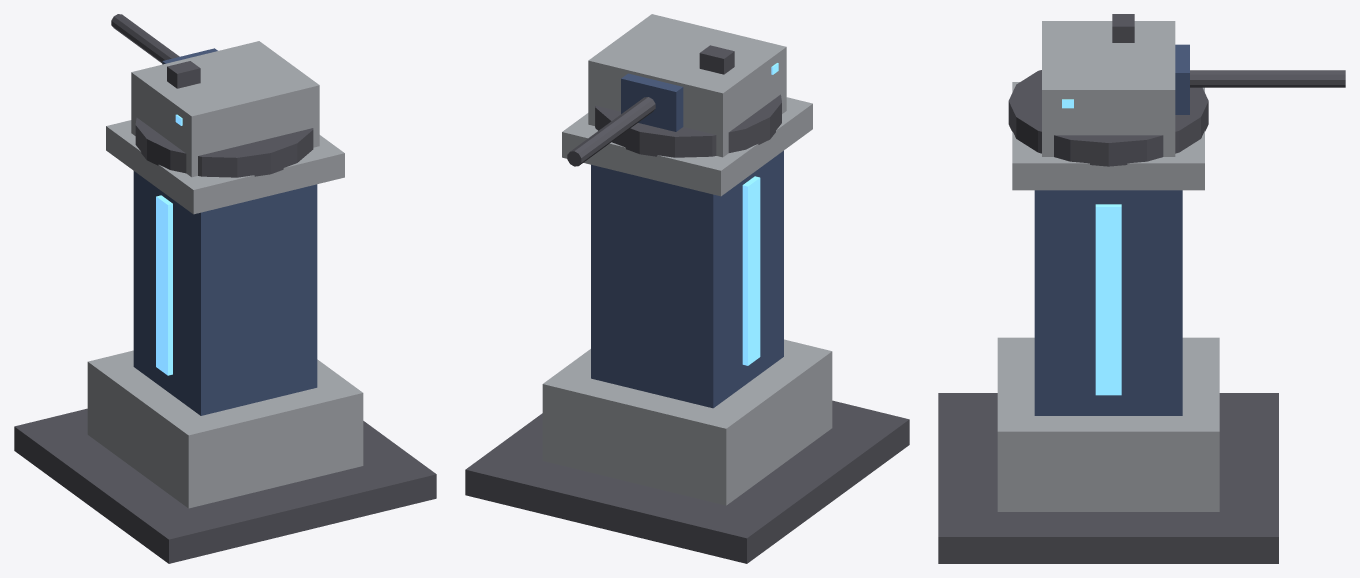
Rendered from us_defense_tower.glb.
The picture shows the model from 3 angles, left to right: view 1: azimuth 30°, elevation 25°; view 2: azimuth 150°, elevation 25°; view 3: azimuth 270°, elevation 25°; orthographic projection. The views are drawn at different scales.
Visible parts, largest first — view 1: Column, Plinth, Pad, Turret, Collar, Ring, StripX2; view 2: Column, Plinth, Pad, Turret, Collar, Ring, StripX2; view 3: Pad, Column, Plinth, Turret, Collar, Ring, StripX1.
Part boxes in pixels (x1,y1,x2,y2): Column: (133,171,317,415); Plinth: (87,350,363,508); Pad: (14,408,436,563); Turret: (111,14,319,177); Collar: (106,120,344,214); Ring: (135,117,313,177); StripX2: (156,195,172,375); Column: (591,150,783,408); Plinth: (542,339,832,505); Pad: (465,400,909,563); Turret: (567,14,786,166); Collar: (562,97,812,196); Ring: (595,94,781,157); StripX2: (742,176,760,365); Pad: (938,393,1278,563); Column: (1034,190,1182,415); Plinth: (997,337,1219,511); Turret: (1042,14,1345,156); Collar: (1012,82,1204,190); Ring: (1008,70,1208,166); StripX1: (1095,204,1121,395).
Size of the model in its own units: 4.6 by 6.75 by 5.5.
